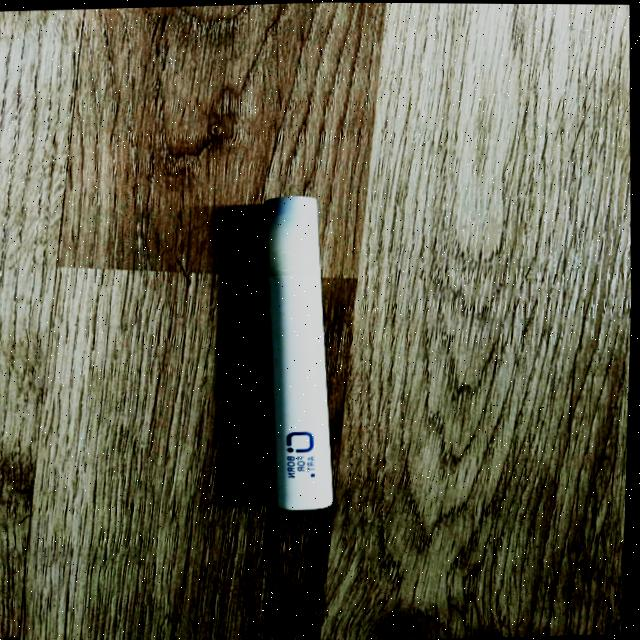HighLight Pen: (267, 196, 335, 509)
